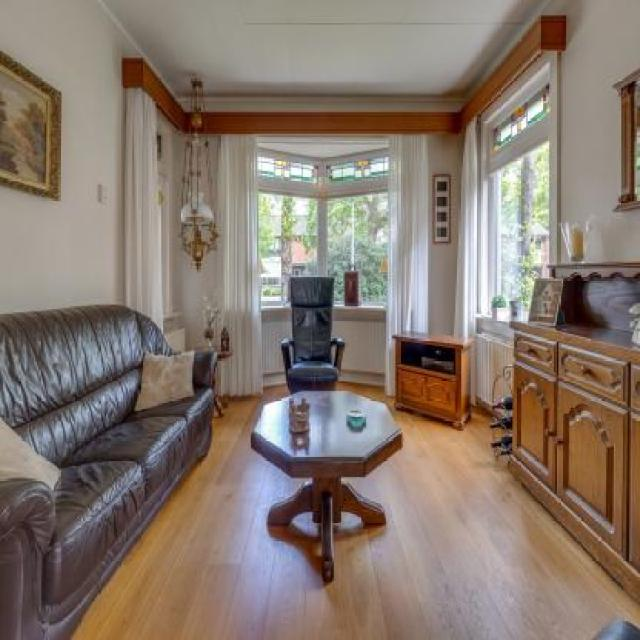floor: (67, 382, 640, 640)
